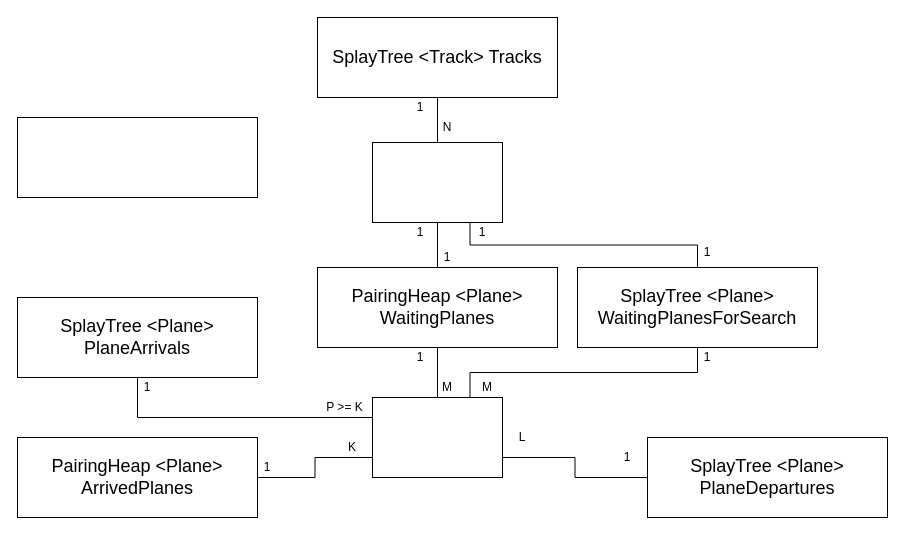
This 905x535 diagram has some shape labels left out. The box of each missing label's shape, as (x1, y1, x2, y2) in pixels:
Plane: (372, 396, 502, 478)
SplayTree <String> TrackAllocations: (16, 116, 258, 198)
Track: (372, 142, 502, 222)
